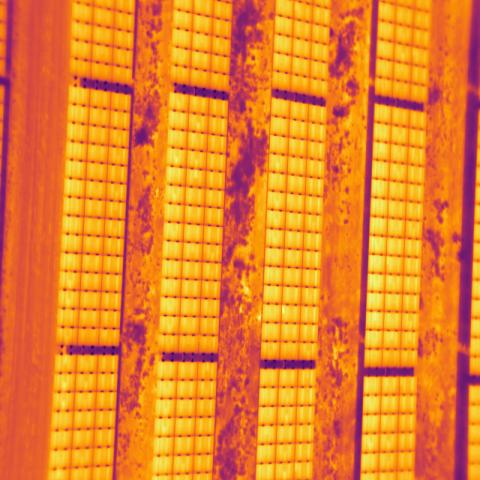fault: (282, 304, 302, 325)
